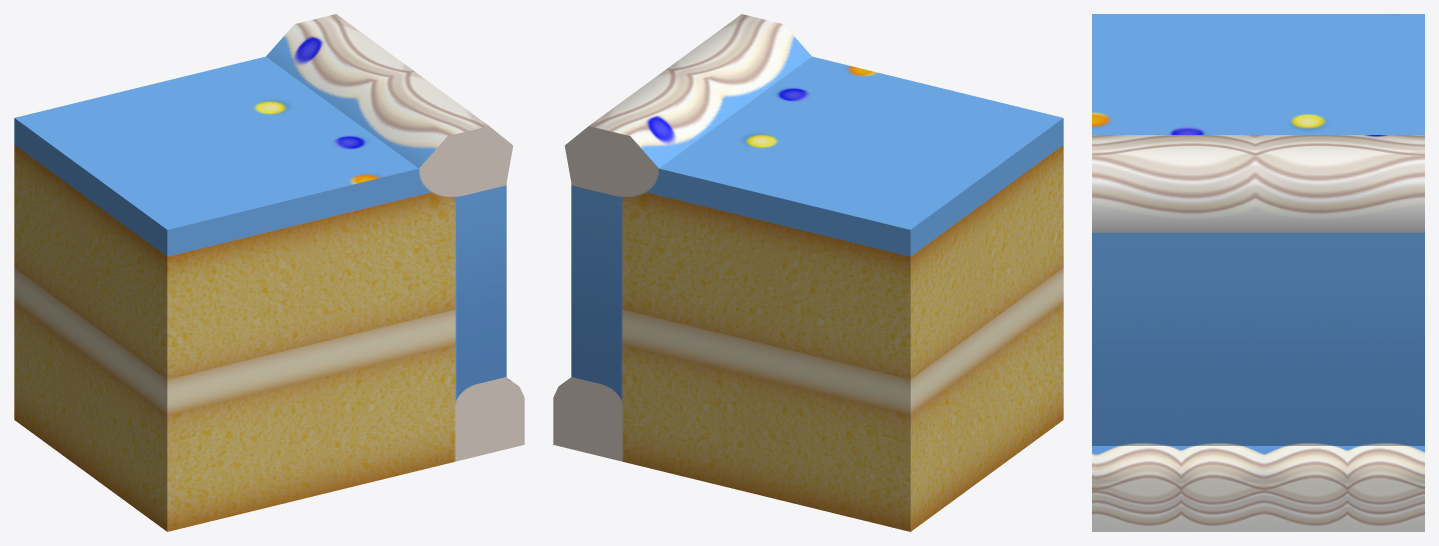
File: SheetCake_01_Slice_08.fbx
3 views of the same model, side by side, from view 1: azimuth 30°, elevation 25°; view 2: azimuth 150°, elevation 25°; view 3: azimuth 270°, elevation 25° (orthographic). The views are drawn at different scales.
Visible parts, largest first — view 1: SheetCake_01_Slice_08; view 2: SheetCake_01_Slice_08; view 3: SheetCake_01_Slice_08.
Part boxes in pixels (x1,y1,x2,y2): SheetCake_01_Slice_08: (14, 14, 524, 531); SheetCake_01_Slice_08: (553, 14, 1063, 531); SheetCake_01_Slice_08: (1092, 14, 1424, 531).
Bounding box in the file's own units: 45.62 × 39.96 × 33.86.
